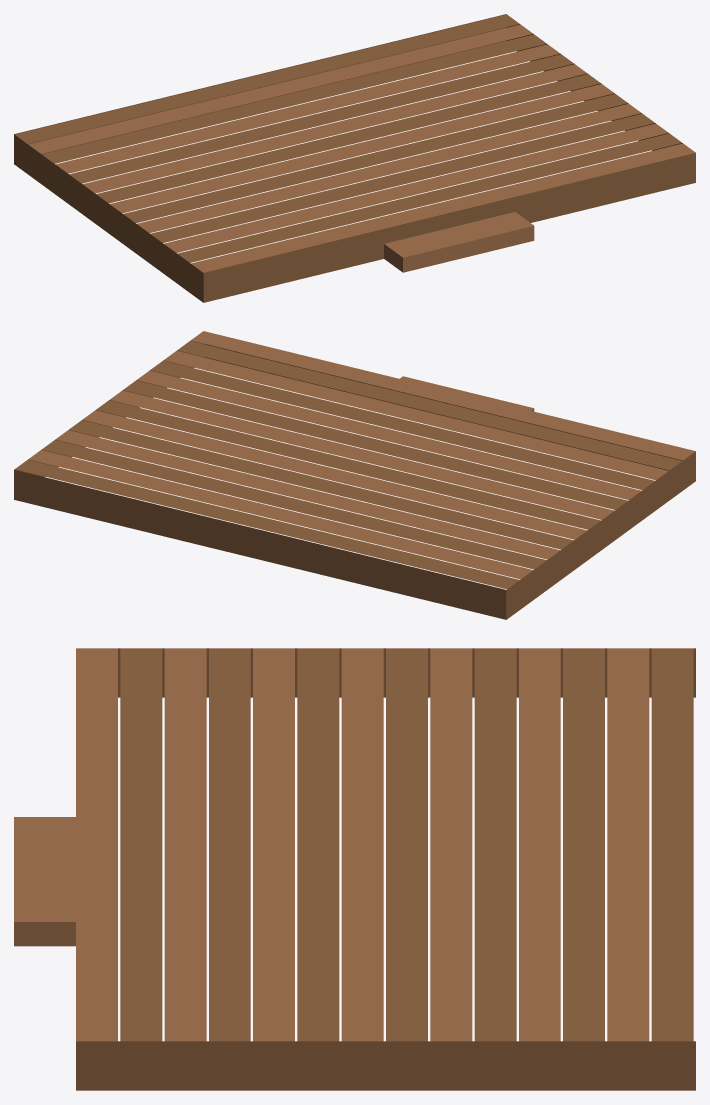
Rendered from terrasse.glb.
3 renders of one model, top to bottom at view 1: azimuth 30°, elevation 25°; view 2: azimuth 150°, elevation 25°; view 3: azimuth 270°, elevation 25°, orthographic. The views are drawn at different scales.
Visible parts, largest first — view 1: terrasse; view 2: terrasse; view 3: terrasse.
Part boxes in pixels (left/top/right/bottom): terrasse: left=14, top=14, right=695, bottom=302; terrasse: left=14, top=331, right=695, bottom=619; terrasse: left=14, top=648, right=695, bottom=1090.
Bounding box in the file's own units: 6 × 0.35 × 4.4.
Materials: 1 (1 with a texture image).
